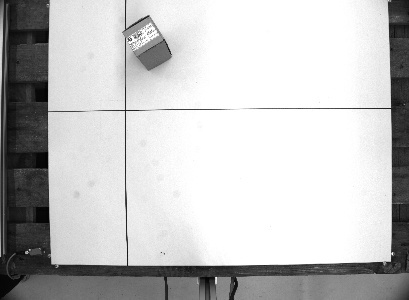b2: (121, 14, 175, 74)
